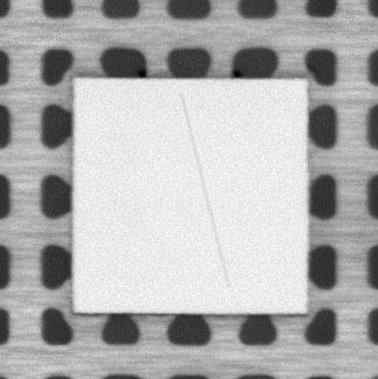DIE_CRACK: (178, 92, 230, 288)
